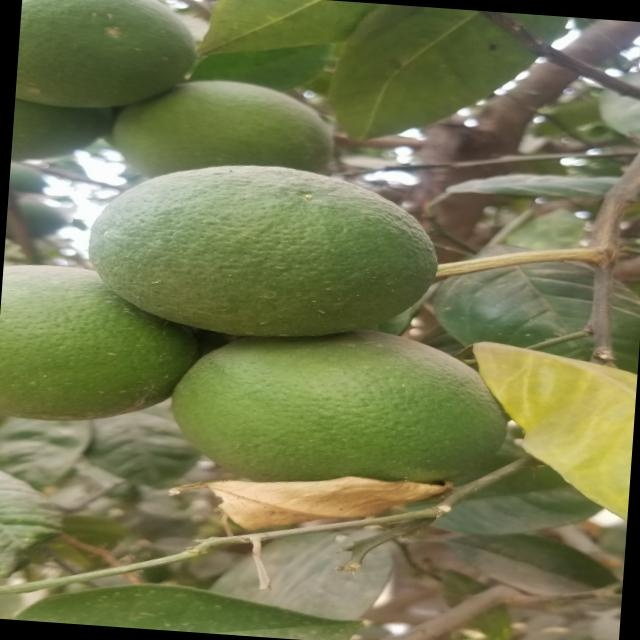agrume: (66, 147, 458, 373), (150, 319, 514, 516), (0, 263, 162, 429), (14, 0, 231, 116)
